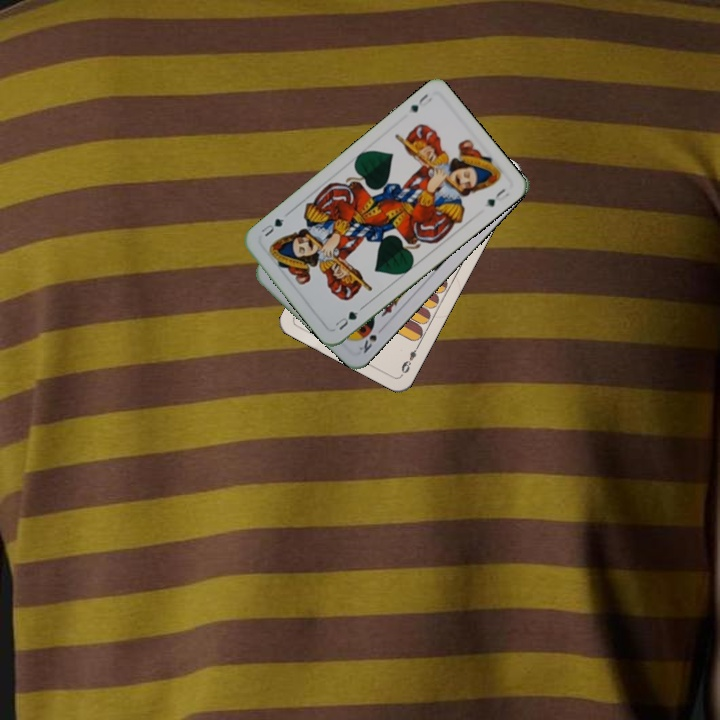E9: (397, 340, 422, 376)
GU: (331, 303, 365, 333), (405, 90, 435, 115)
SK: (355, 321, 379, 356)
